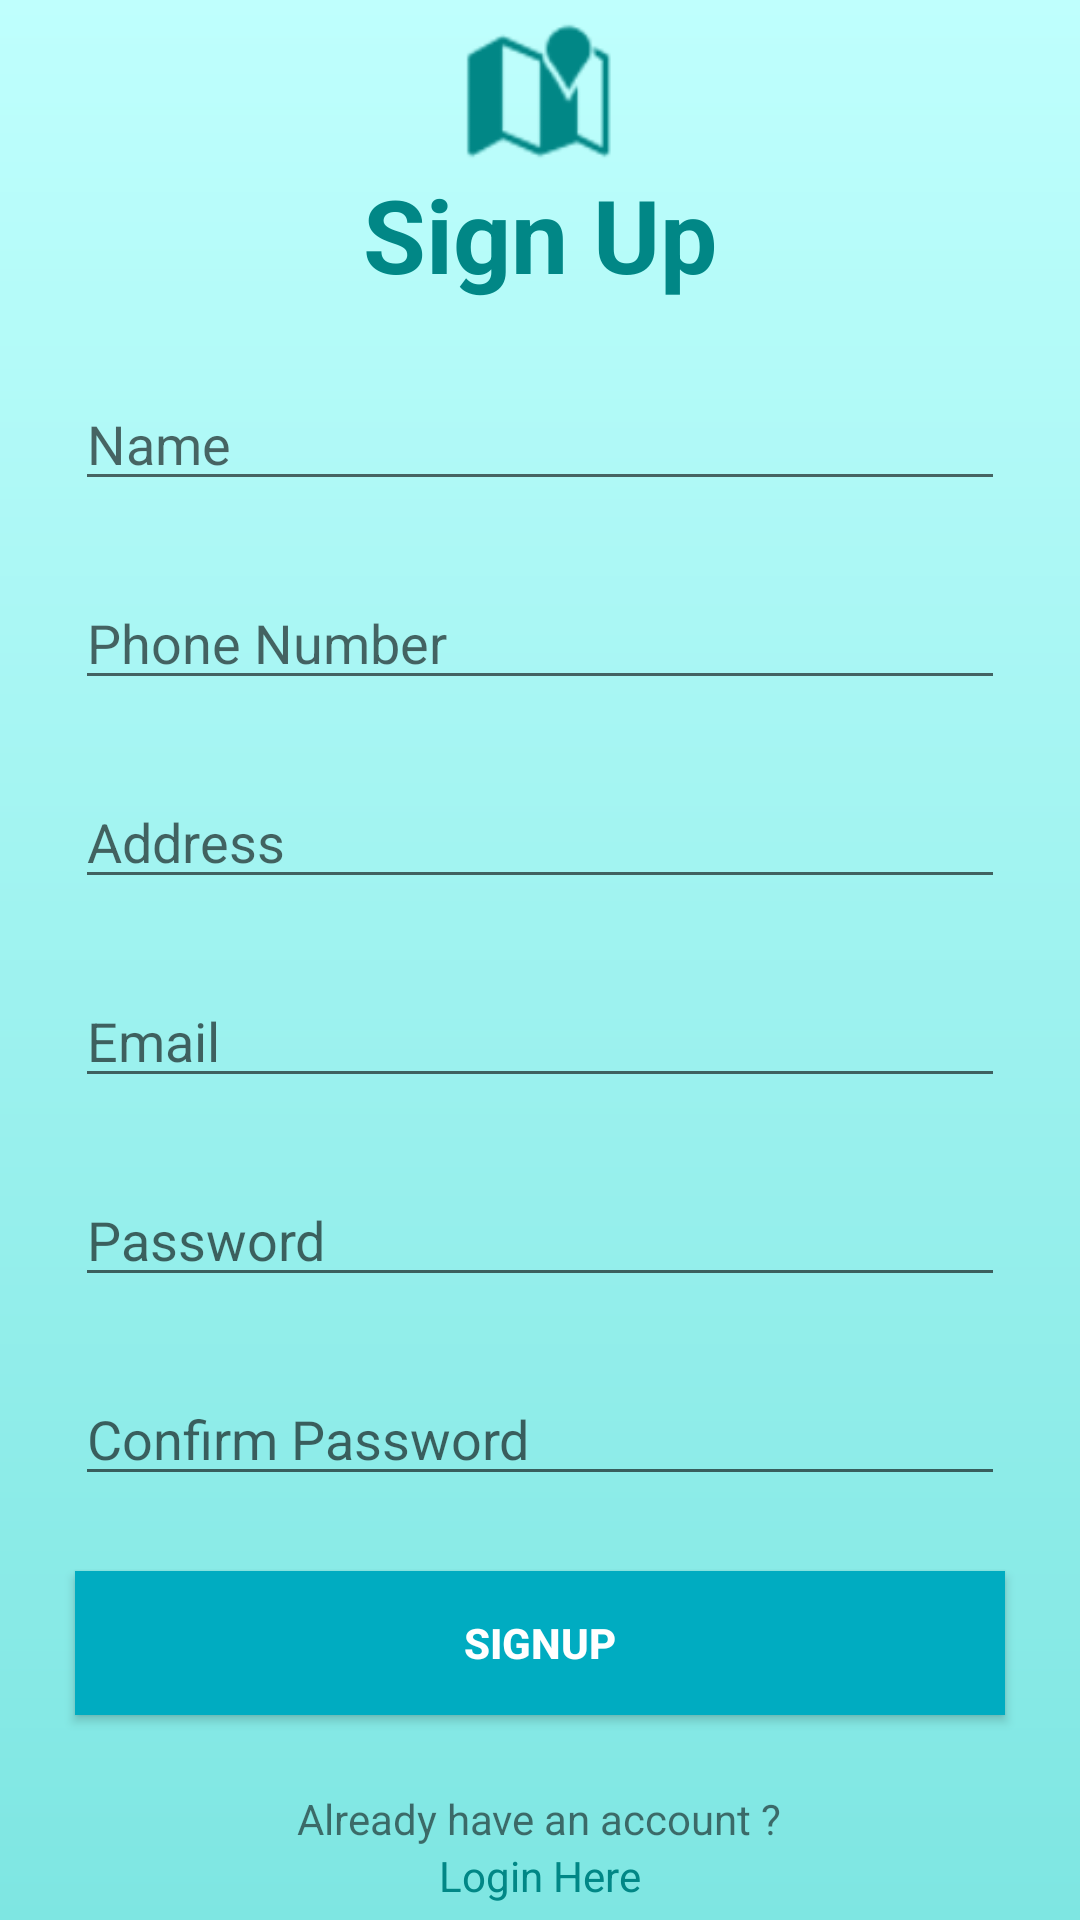

Screen size 1080*1920. Icon name, then its center in pixels as (x=x, y=y):
map: (x=539, y=91)
